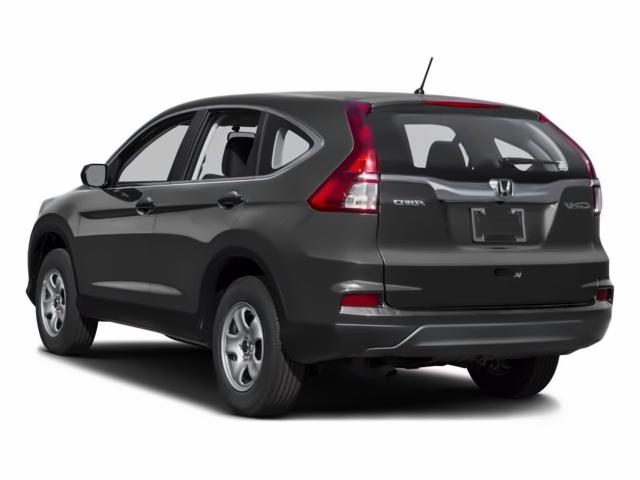Car boot: (369, 95, 606, 314)
Fender - -F-L-: (21, 182, 87, 269)
Fender - -R-L-: (212, 131, 360, 299)
Passenger-s door - -F-L-: (70, 92, 207, 330)
Passenger-s door - -R-L-: (141, 90, 269, 348)
Rear bumper: (279, 299, 614, 376)
Rear light - -L-: (308, 99, 380, 214)
Side bumper - -L-: (69, 279, 213, 355)
Side mirror - -L-: (81, 155, 113, 196)
